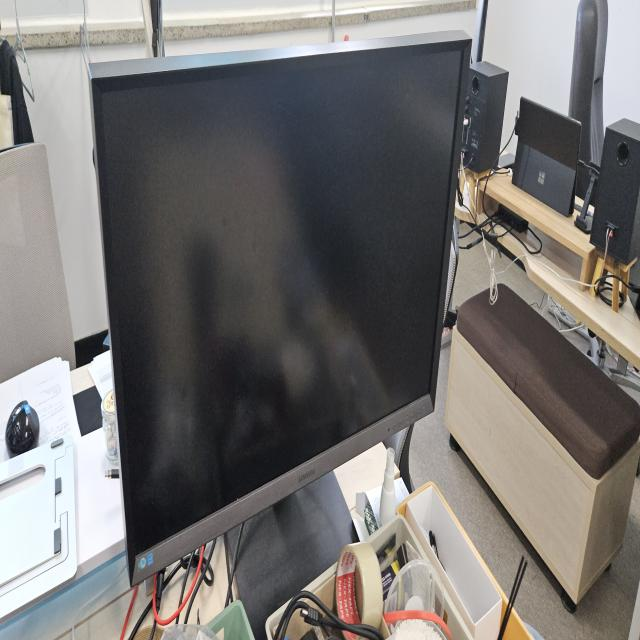Monitor: (83, 26, 474, 586)
Mouse: (4, 396, 41, 458)
